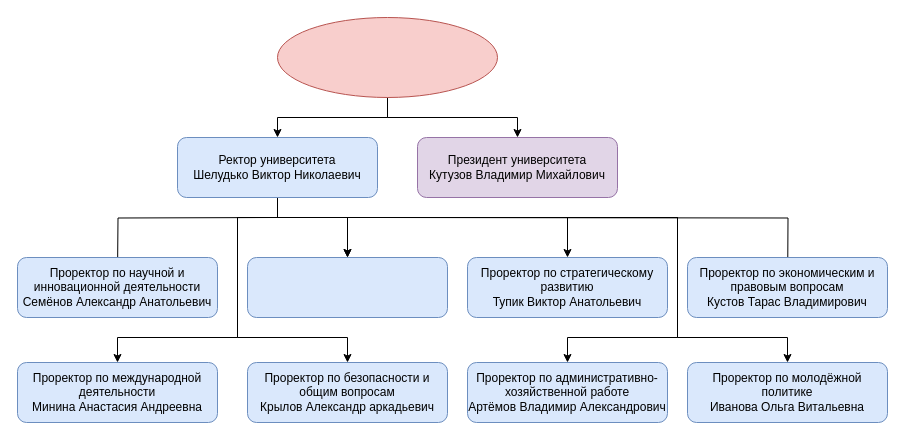
Some shapes in this 905 by 440 pixel diagram are drawn without their labels. The centre of each missing label's shape, as x and y in pixels:
Проректор по научной работе Галунин Сергей Александрович: [347,287]
Руководство СПБГЭТУ "ЛЭТИ": [387,57]
